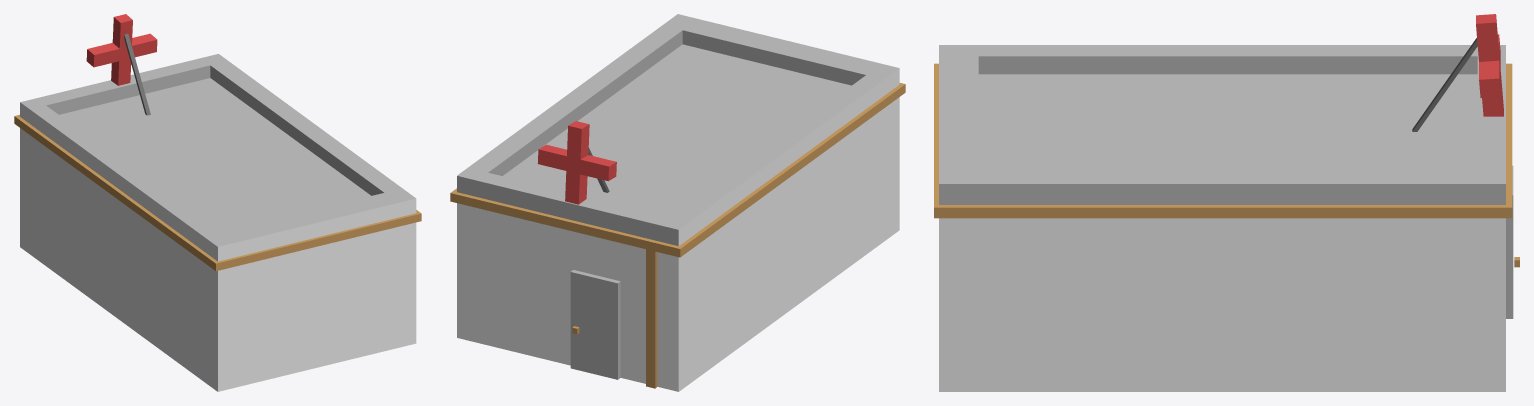
Rendered from hospital.glb.
3 views of the same model, side by side, from view 1: azimuth 30°, elevation 25°; view 2: azimuth 150°, elevation 25°; view 3: azimuth 270°, elevation 25° (orthographic). The views are drawn at different scales.
Parts seen in each view (by area): view 1: Больница; view 2: Больница; view 3: Больница.
Part boxes in pixels (box(x1,y1,x2,y2)): Больница: box(14, 14, 421, 391); Больница: box(450, 14, 905, 391); Больница: box(934, 14, 1519, 391).
Size of the model in its own units: 8.22 by 8.05 by 14.14.
